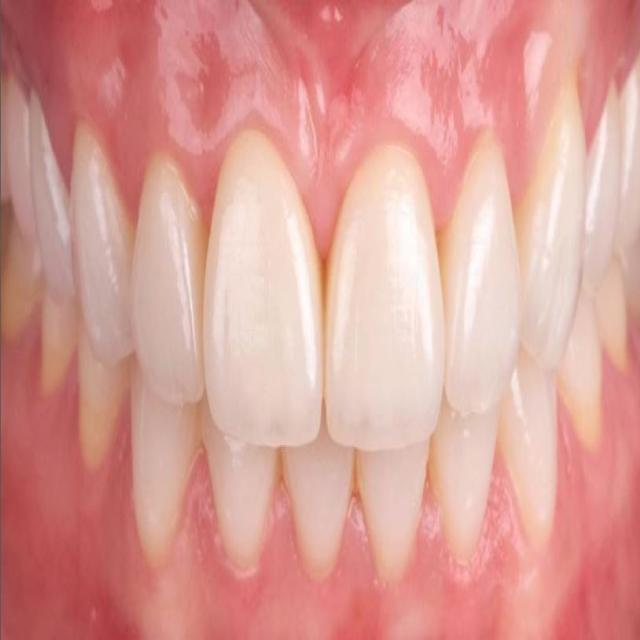1st Molar: (2, 219, 42, 345), (596, 262, 631, 371)
1st Premolar: (498, 350, 559, 566), (31, 90, 74, 300), (583, 81, 623, 285), (76, 340, 132, 474)
2nd Premolar: (560, 292, 603, 457), (615, 55, 640, 257), (0, 79, 31, 226), (42, 297, 78, 392)
Canine: (513, 69, 586, 374), (71, 122, 134, 367), (131, 371, 201, 574), (430, 402, 498, 580)
Central Incisor: (202, 131, 325, 450), (323, 138, 446, 452), (284, 442, 355, 588)
Lateral Incisor: (440, 128, 520, 416), (131, 154, 206, 409), (204, 409, 282, 576), (355, 447, 428, 587)
